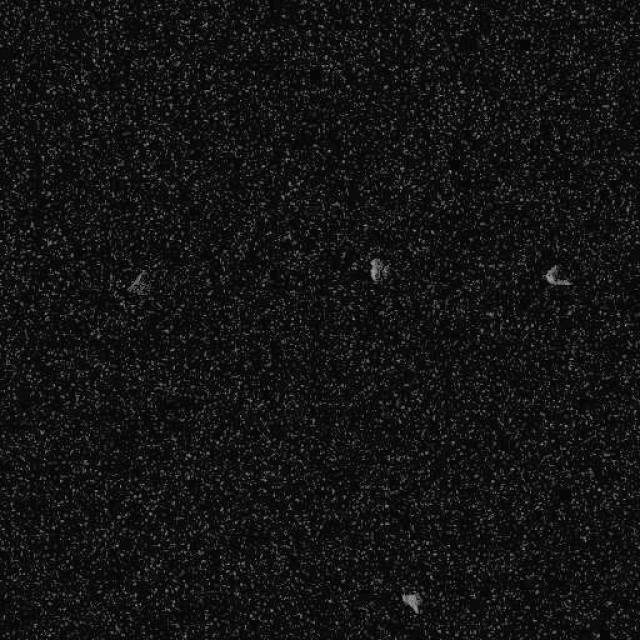D2: (542, 262, 572, 288), (125, 269, 150, 296), (400, 590, 422, 614), (368, 256, 388, 282)
